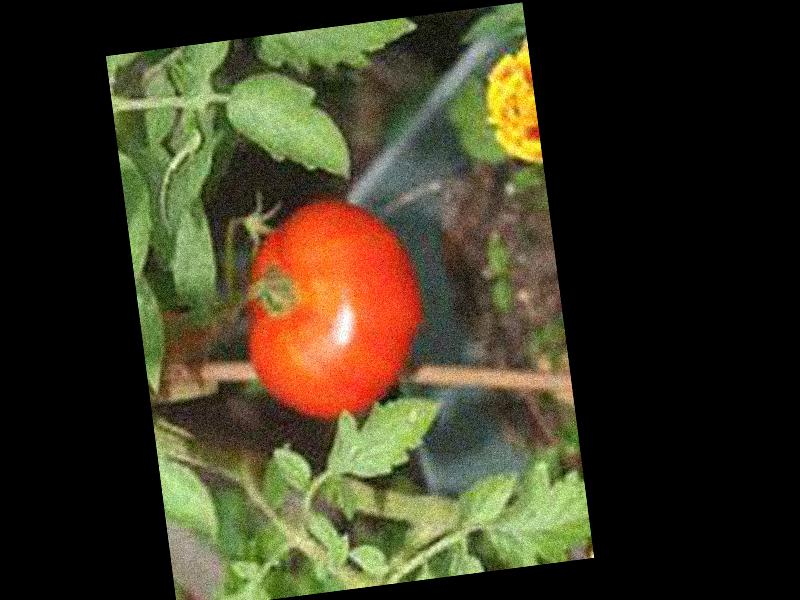Tomato: (229, 188, 432, 431)
